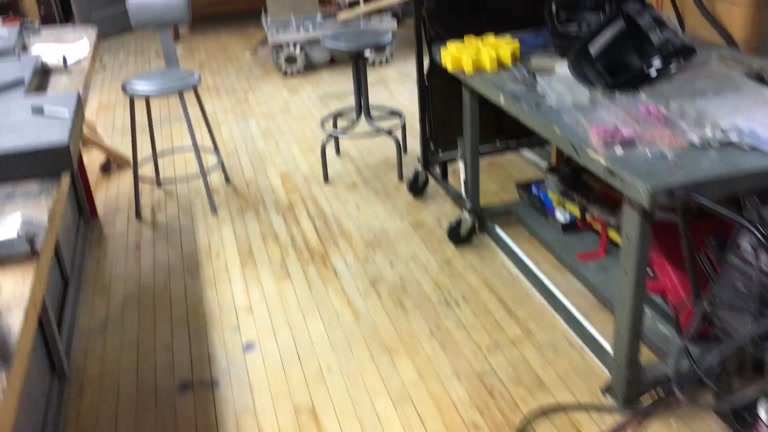gear: (441, 30, 521, 75)
